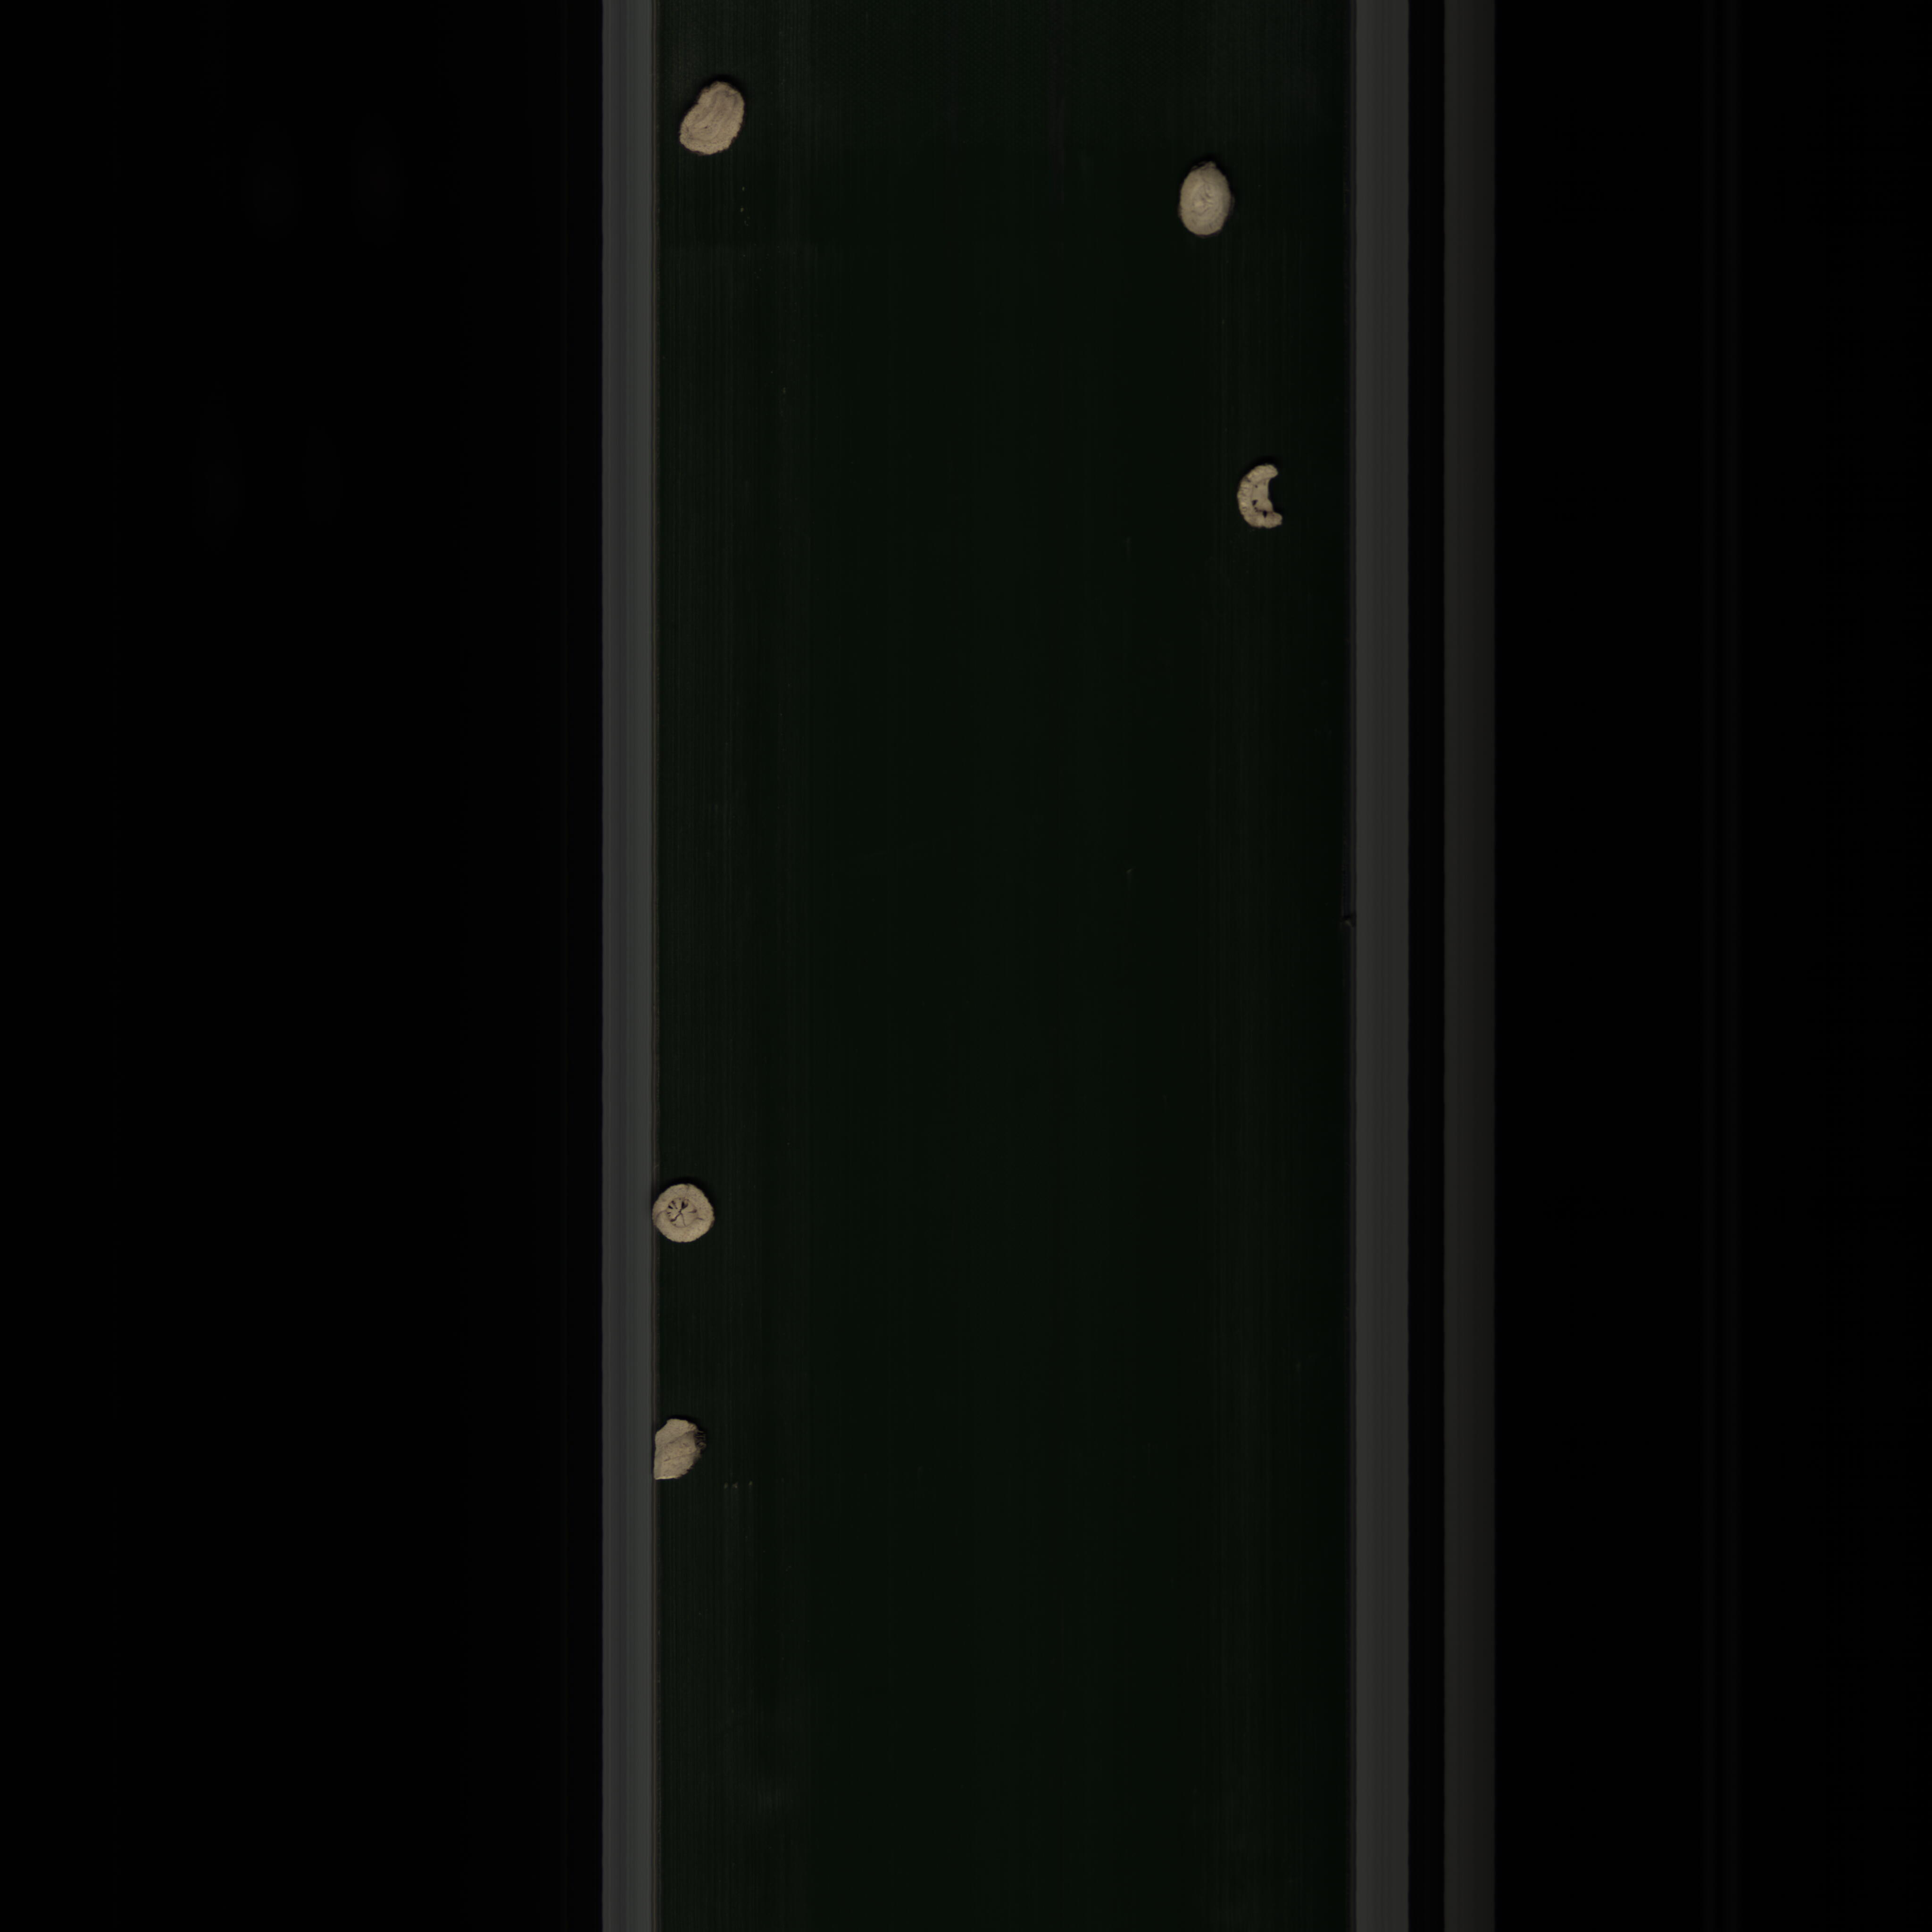debris: (1224, 453, 1295, 541), (651, 1412, 713, 1502)
hole: (648, 1180, 727, 1256)
